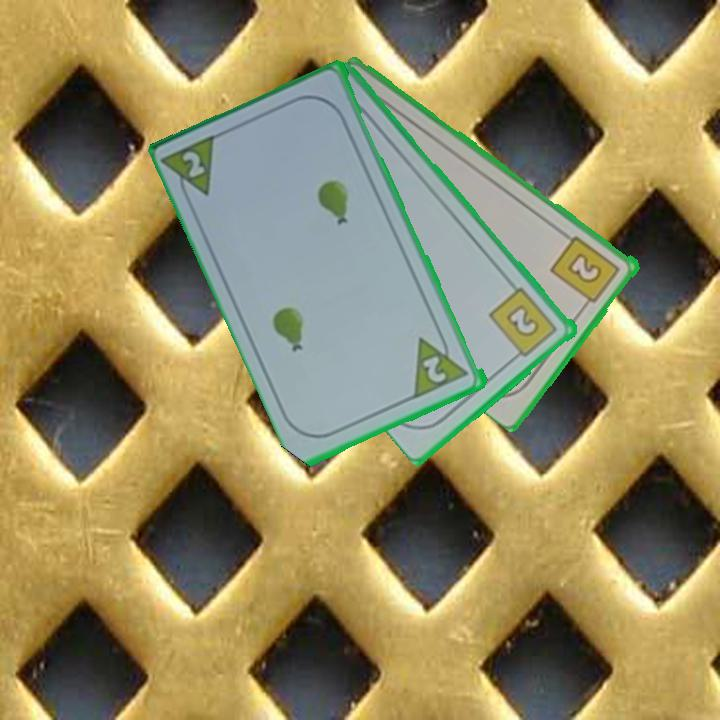2b: (547, 232, 624, 312), (486, 283, 561, 364)
2p: (419, 352, 450, 386), (179, 147, 209, 181)
